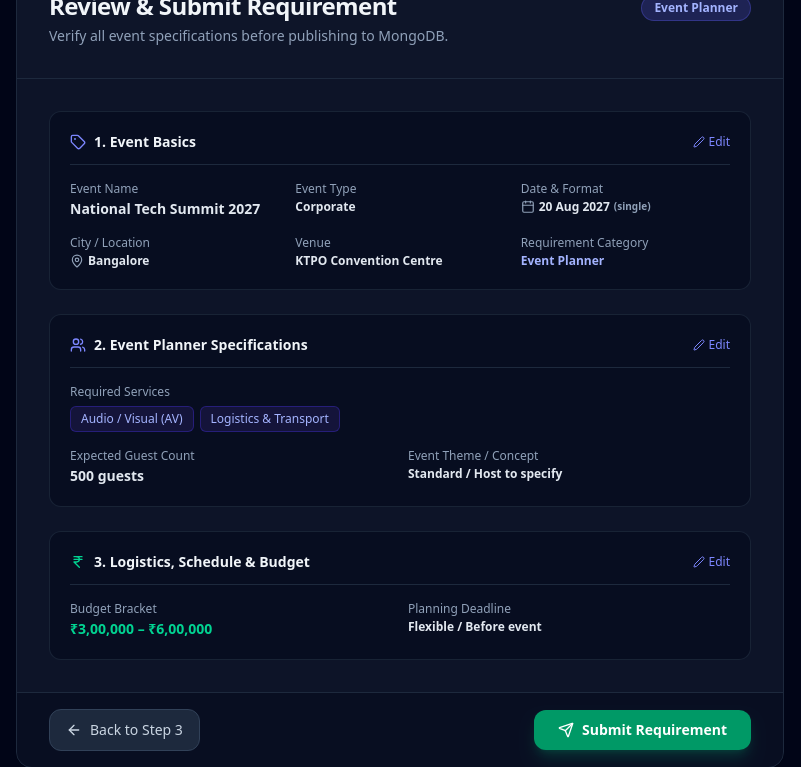
Test: ReviewStep submission handling › displays network failure error message and friendly retry action when connection fails
(page scrolled)
What coordinates should you click on to do the following:
click the button "Submit Requirement"
I would click on:
 (642, 730)
Its box is left=534, top=710, right=751, bottom=750.
(page scrolled)
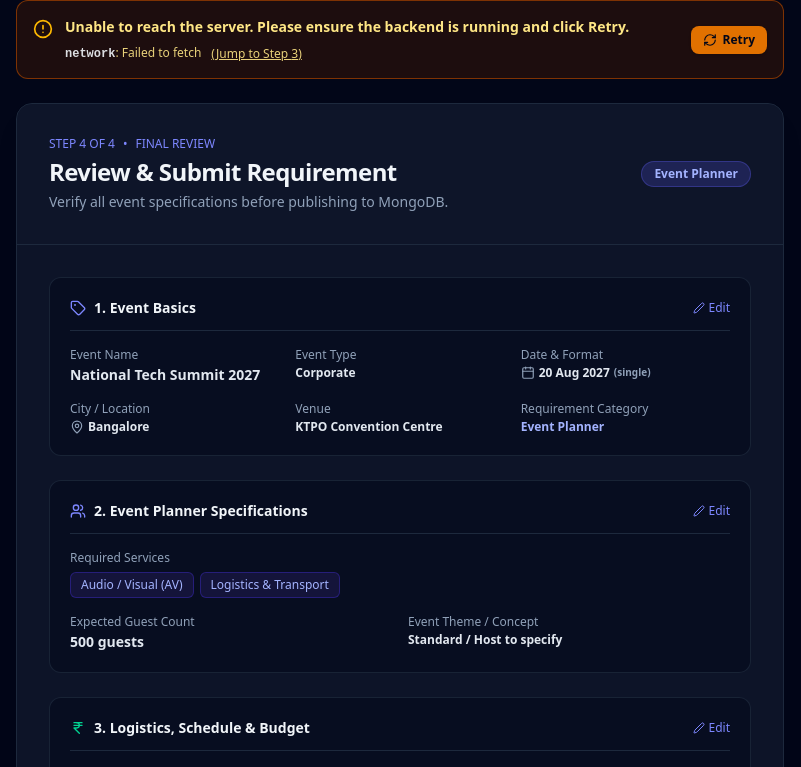
Result: the text "Unable to reach the server" is shown at left=65, top=17, right=629, bottom=36
Result: the button "Retry" is shown at left=690, top=26, right=767, bottom=54
